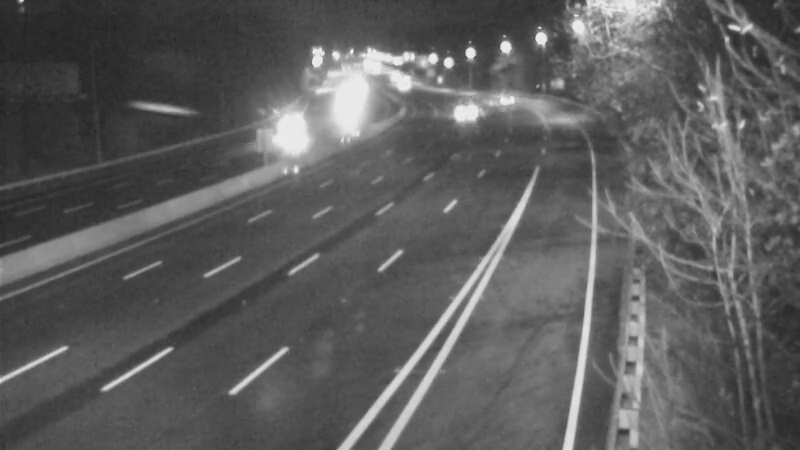vehicle: (474, 73, 524, 123), (439, 79, 489, 129), (266, 112, 316, 162)
